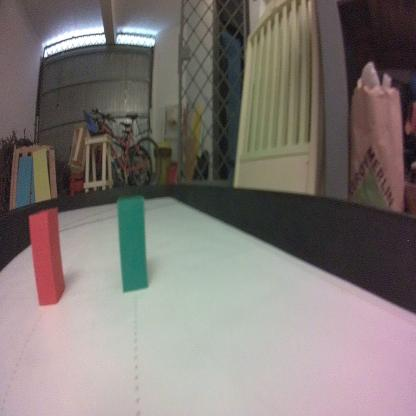green: (115, 195, 150, 292)
red: (28, 207, 66, 306)
